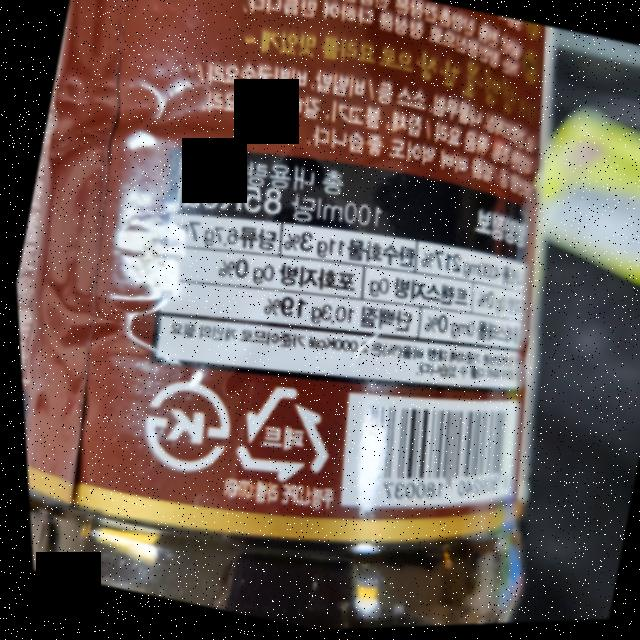PET: (218, 370, 346, 501)
